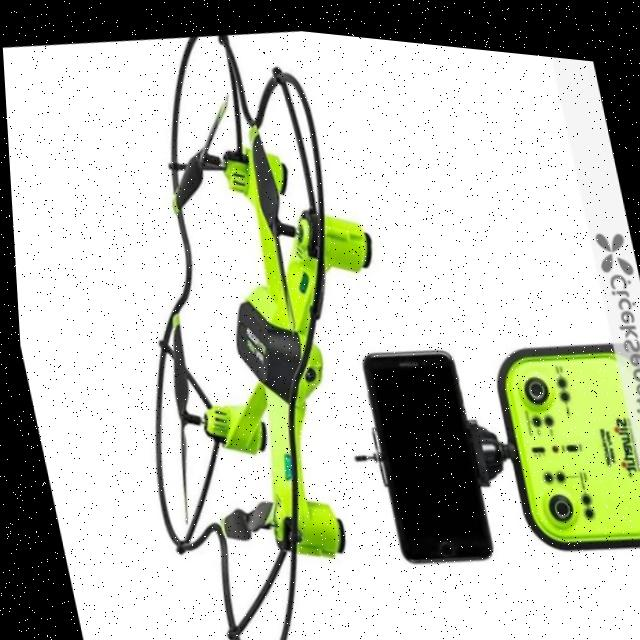drones: (15, 1, 453, 640)
